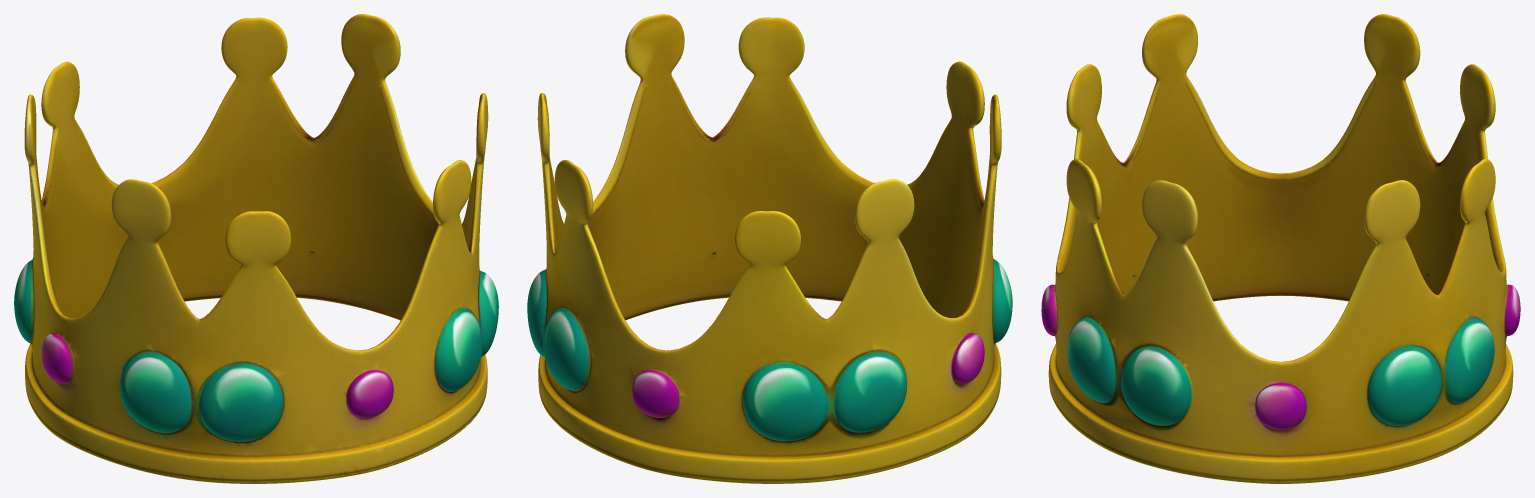
The model's file is Corona.glb.
3 views of the same model, side by side, from view 1: azimuth 30°, elevation 25°; view 2: azimuth 150°, elevation 25°; view 3: azimuth 270°, elevation 25° (orthographic).
Bounding box in the file's own units: 1.9 × 1.26 × 1.9.
1 material, 1 textured.
